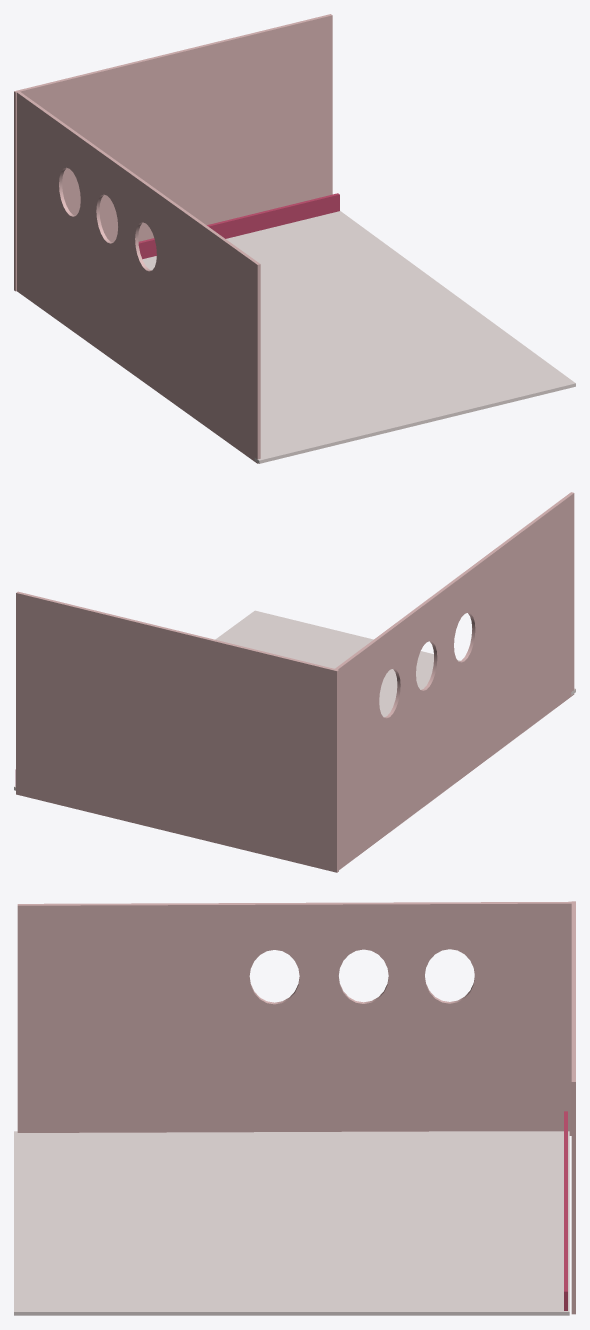
File: cubo.obj
3 renders of one model, top to bottom at view 1: azimuth 30°, elevation 25°; view 2: azimuth 150°, elevation 25°; view 3: azimuth 270°, elevation 25°, orthographic. The views are drawn at different scales.
Visible parts, largest first — view 1: polySurface73; view 2: polySurface73; view 3: polySurface73.
Boxes of the visible parts, x1,y1,x2,y2 form: polySurface73: (14,14,575,463); polySurface73: (14,492,575,872); polySurface73: (14,901,575,1315).
Bounding box in the file's own units: 10.15 × 6 × 13.15.
